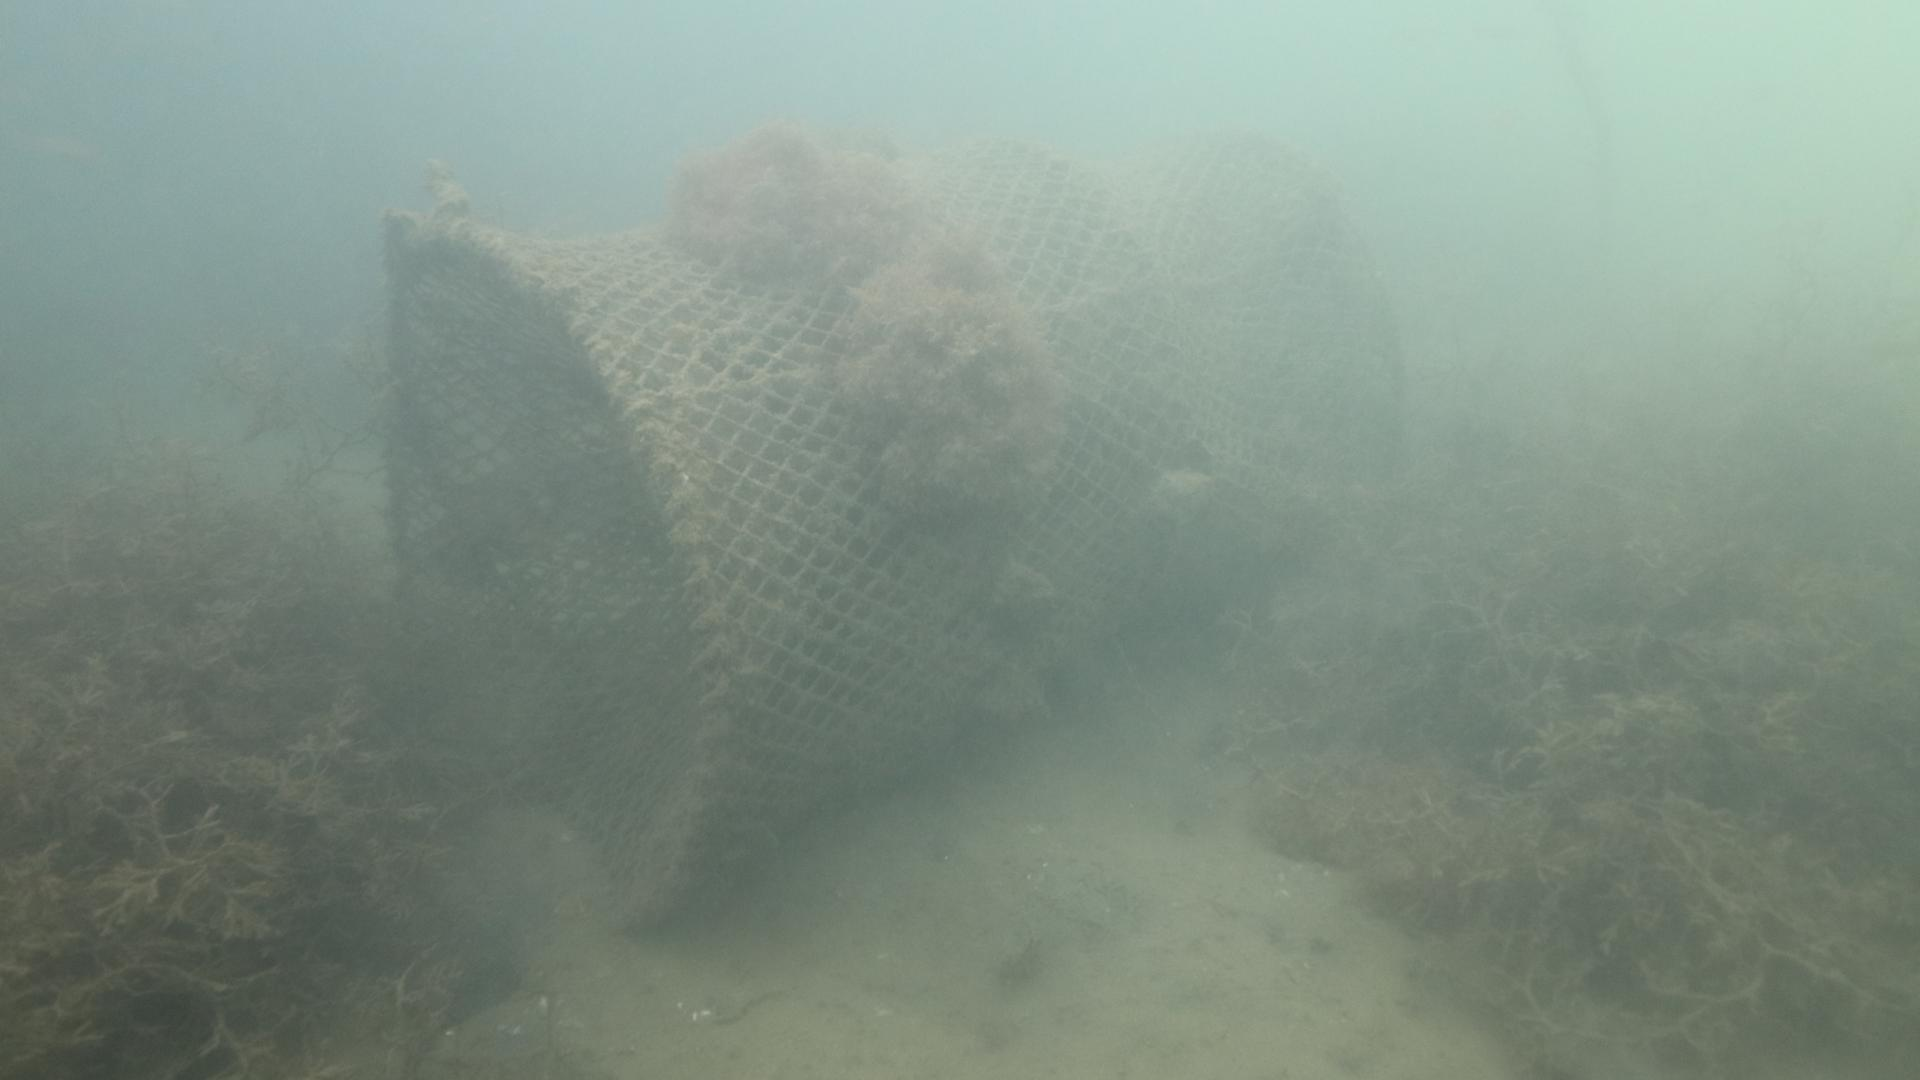spring fish trap: (382, 113, 1411, 934)
